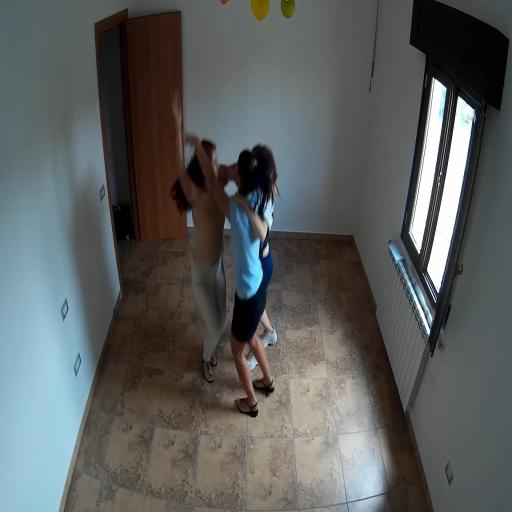nao-violencia: (156, 79, 298, 430)
